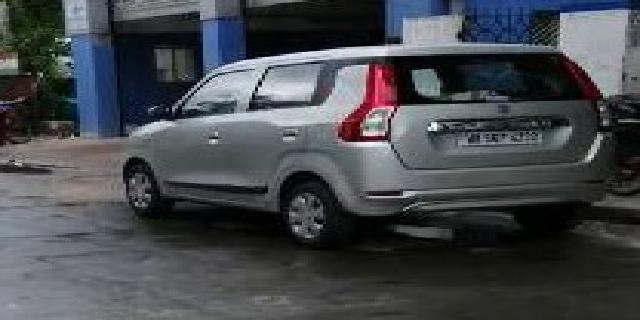Car: (116, 43, 628, 257)
